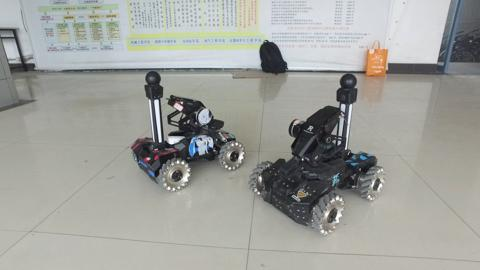chariot: (248, 65, 387, 242), (124, 61, 242, 204)
